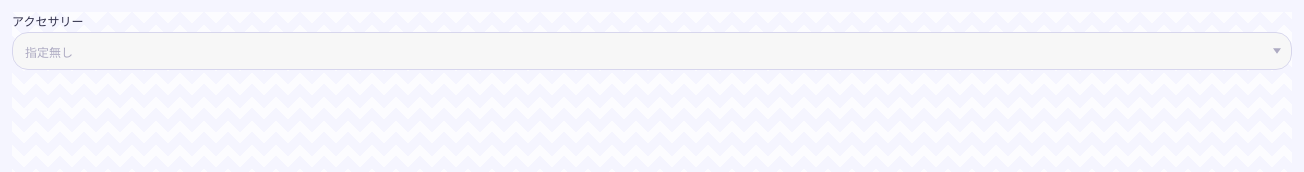
Test: image prompt multiple selection › keeps the menu open while selecting multiple values and can clear them
Click the button named "アクセサリー": (49, 52) [12, 32, 1292, 70]
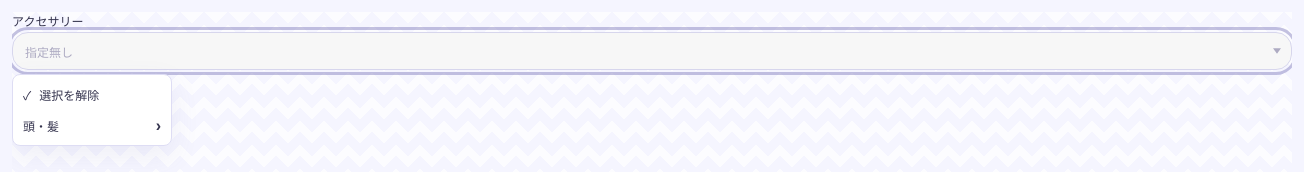
Click the button "頭・髪 ›": (92, 126) [13, 110, 171, 141]
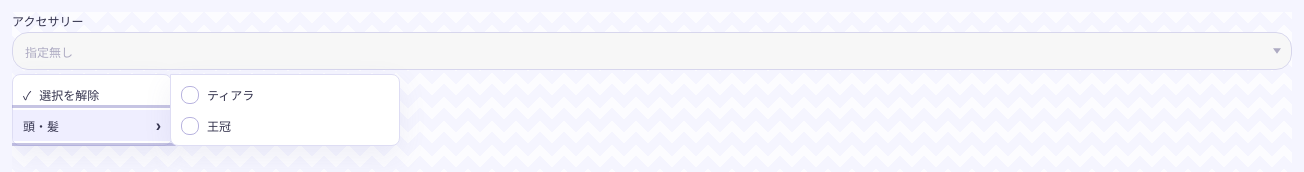
Click the checkbox labelled "ティアラ": (190, 94) [181, 86, 199, 104]
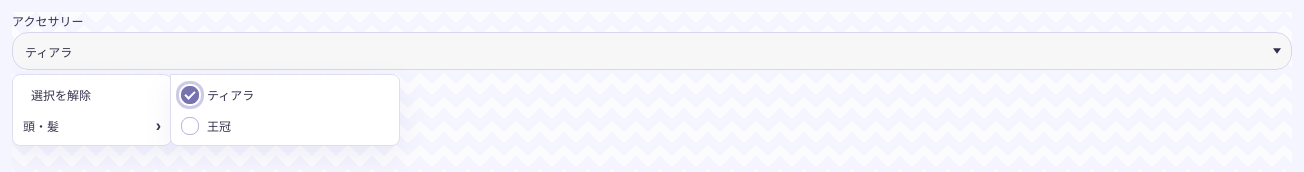
Click the checkbox labelled "王冠": (190, 126) [181, 116, 199, 134]
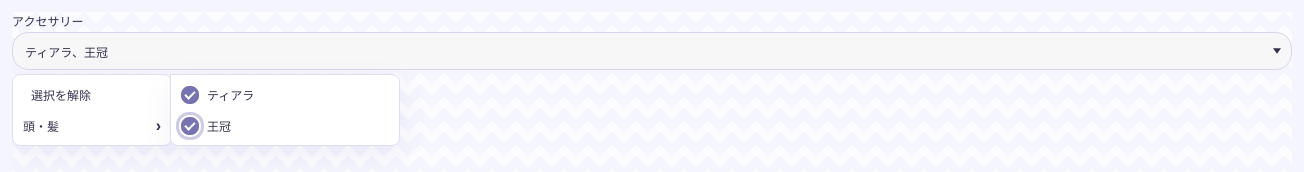
Result: the checkbox labelled "ティアラ" is checked at [181, 86, 199, 104]
Result: the checkbox labelled "王冠" is checked at [181, 116, 199, 134]
Result: the button named "アクセサリー" reads "ティアラ、王冠" at [12, 32, 1292, 70]
Click the button "選択を解除": (92, 94) [13, 79, 171, 110]
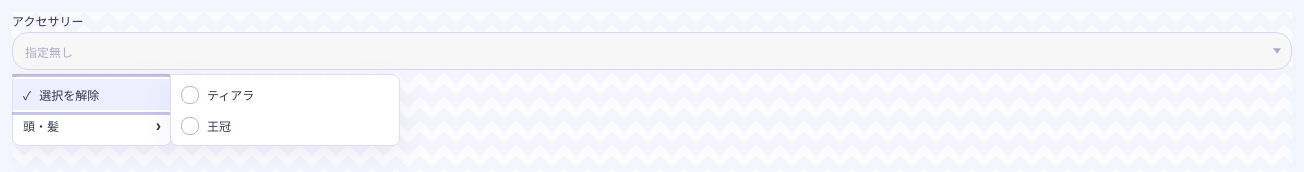
Result: the button named "アクセサリー" reads "指定無し"
Click the button named "アクセサリー": (49, 52) [12, 32, 1292, 70]
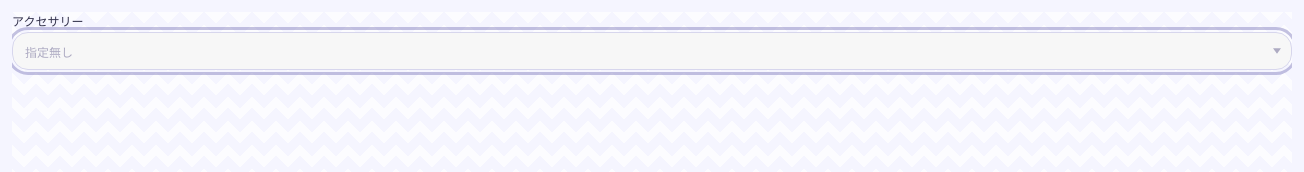
Result: the menu is gone
